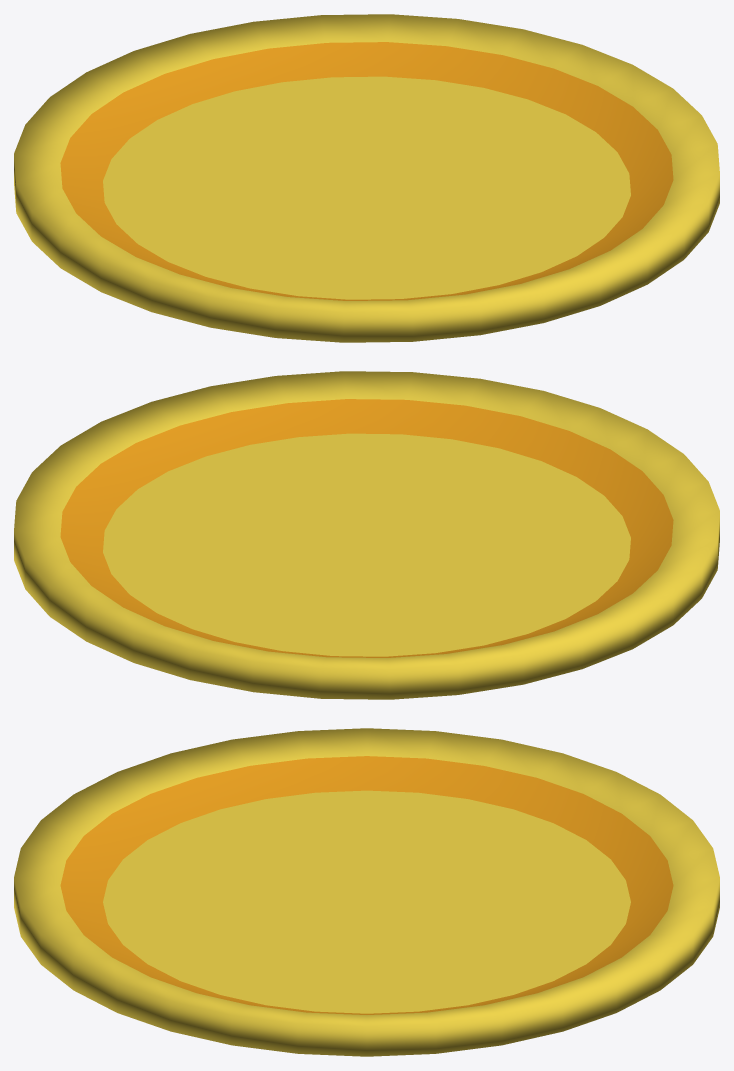
Rendered from plate.fbx.
The picture shows the model from 3 angles, top to bottom: view 1: azimuth 30°, elevation 25°; view 2: azimuth 150°, elevation 25°; view 3: azimuth 270°, elevation 25°; orthographic projection.
Visible parts, largest first — view 1: Cylinder; view 2: Cylinder; view 3: Cylinder.
Part boxes in pixels (x1=…): Cylinder: x1=14, y1=14, x2=719, y2=342; Cylinder: x1=14, y1=371, x2=719, y2=699; Cylinder: x1=14, y1=728, x2=719, y2=1056.
Size of the model in its own units: 1115 by 52.58 by 1115.
